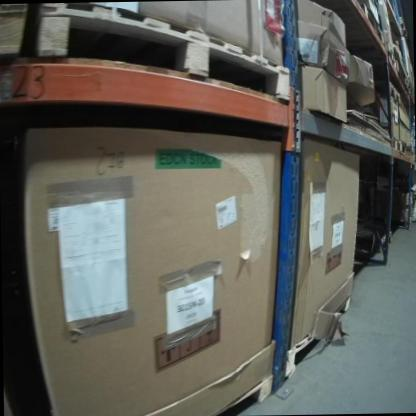pallet: (35, 0, 295, 106), (285, 299, 351, 381), (183, 373, 274, 414), (355, 216, 392, 260), (363, 3, 382, 43), (396, 5, 412, 41), (386, 135, 406, 156), (385, 43, 399, 72)
